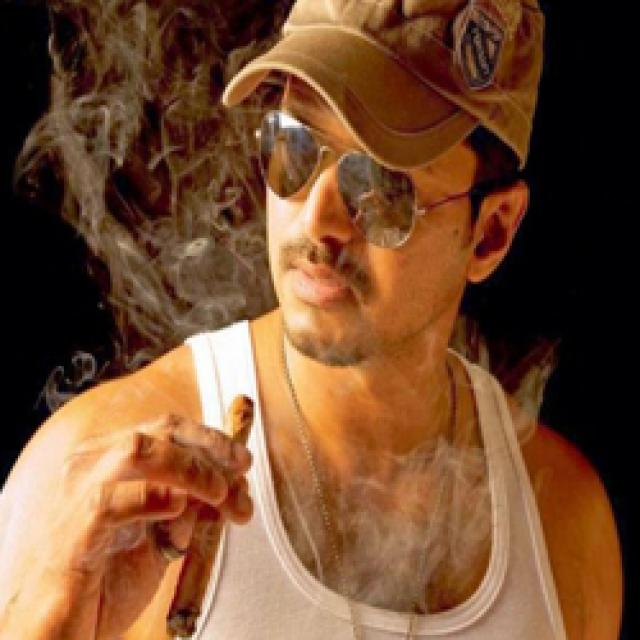Smooking: (164, 366, 282, 640)
